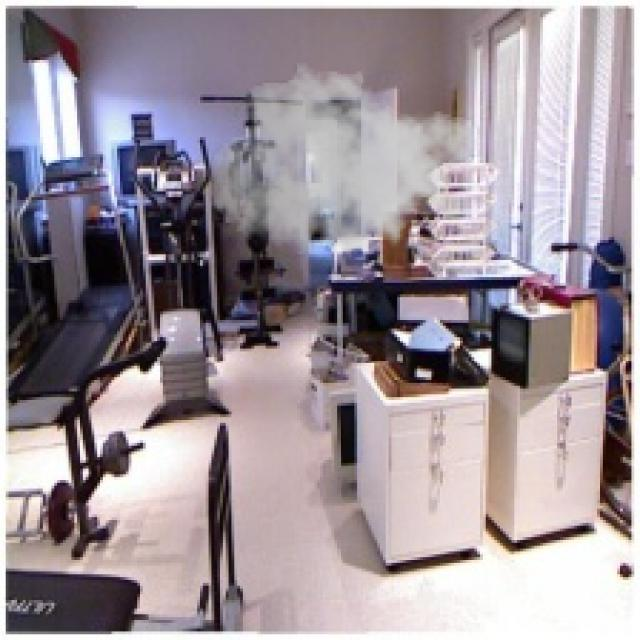Smoke: (208, 57, 483, 280)
